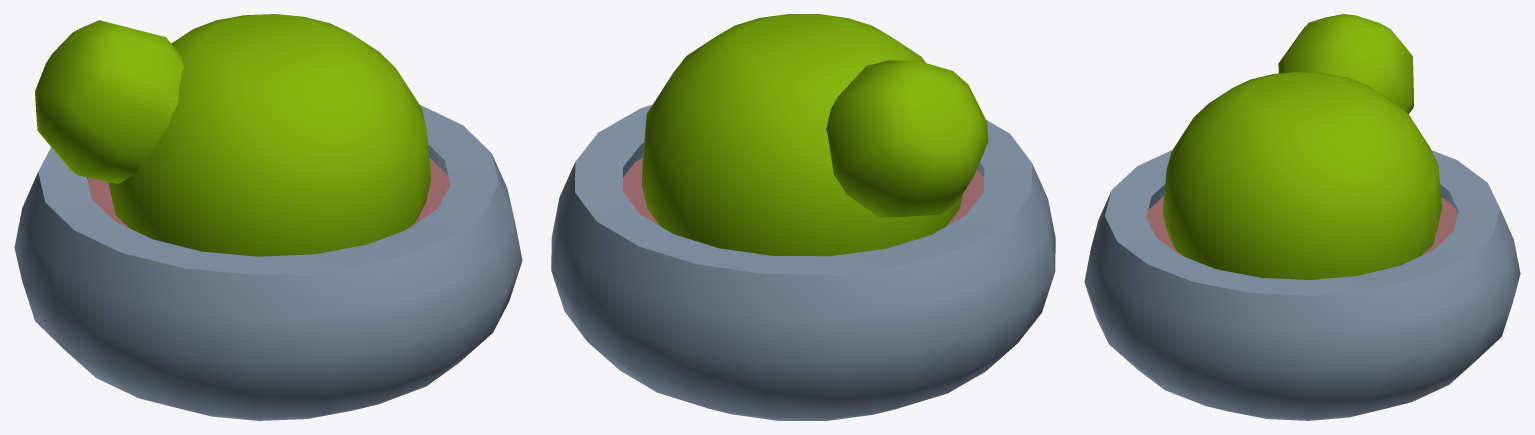
File: Decoration Plant 1.glb
3 renders of one model, left to right at view 1: azimuth 30°, elevation 25°; view 2: azimuth 150°, elevation 25°; view 3: azimuth 270°, elevation 25°, orthographic. The views are drawn at different scales.
Parts seen in each view (by area): view 1: Decoration_Plant1; view 2: Decoration_Plant1; view 3: Decoration_Plant1.
Part boxes in pixels (left/top/right/bottom): Decoration_Plant1: left=14, top=14, right=522, bottom=420; Decoration_Plant1: left=551, top=14, right=1055, bottom=420; Decoration_Plant1: left=1084, top=14, right=1520, bottom=420.
Size of the model in its own units: 1.09 by 0.8377 by 1.09.
1 material, 1 textured.
